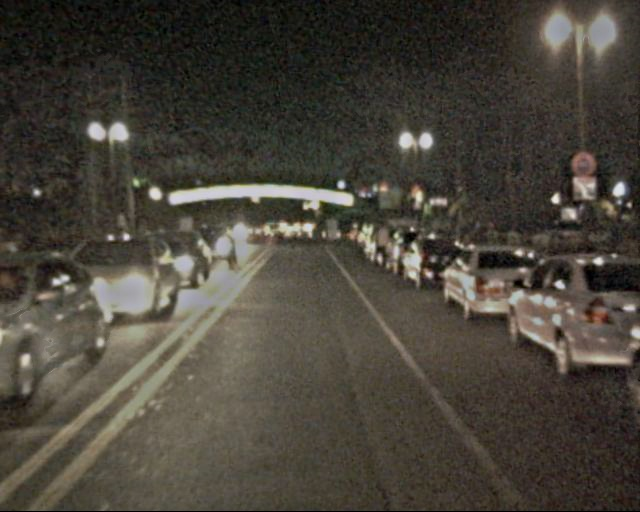person: (370, 225, 391, 277)
